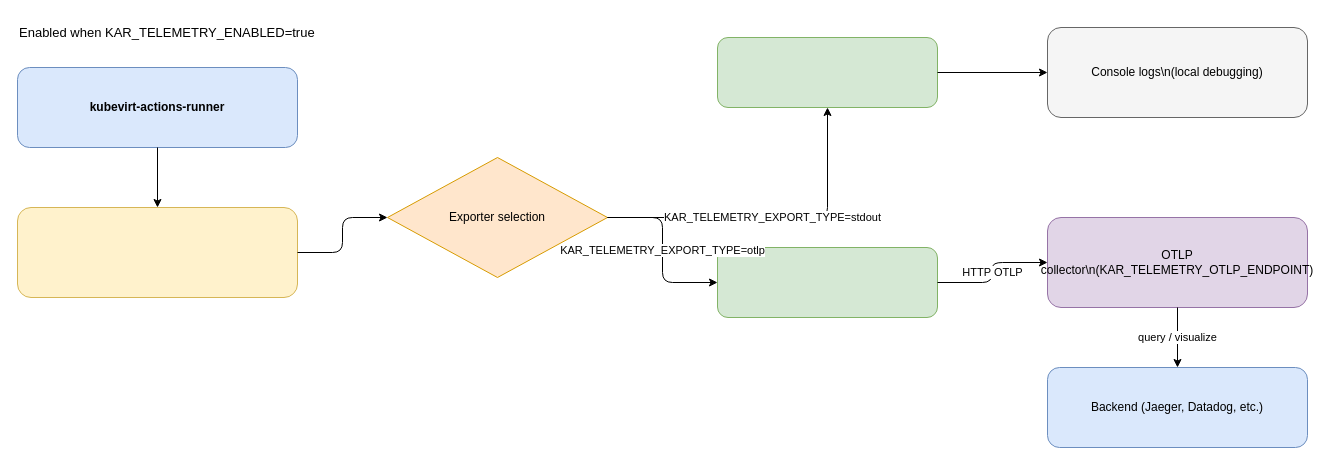
Image size: 1331x465. Some labels were removed from this diagram. Each missing label, with the centre of its shape:
"OTLP exporter" belongs at point (827, 282).
"stdout exporter" belongs at point (827, 72).
"Tracer spans:\ncreate VMI, wait phase, cleanup" belongs at point (157, 252).
